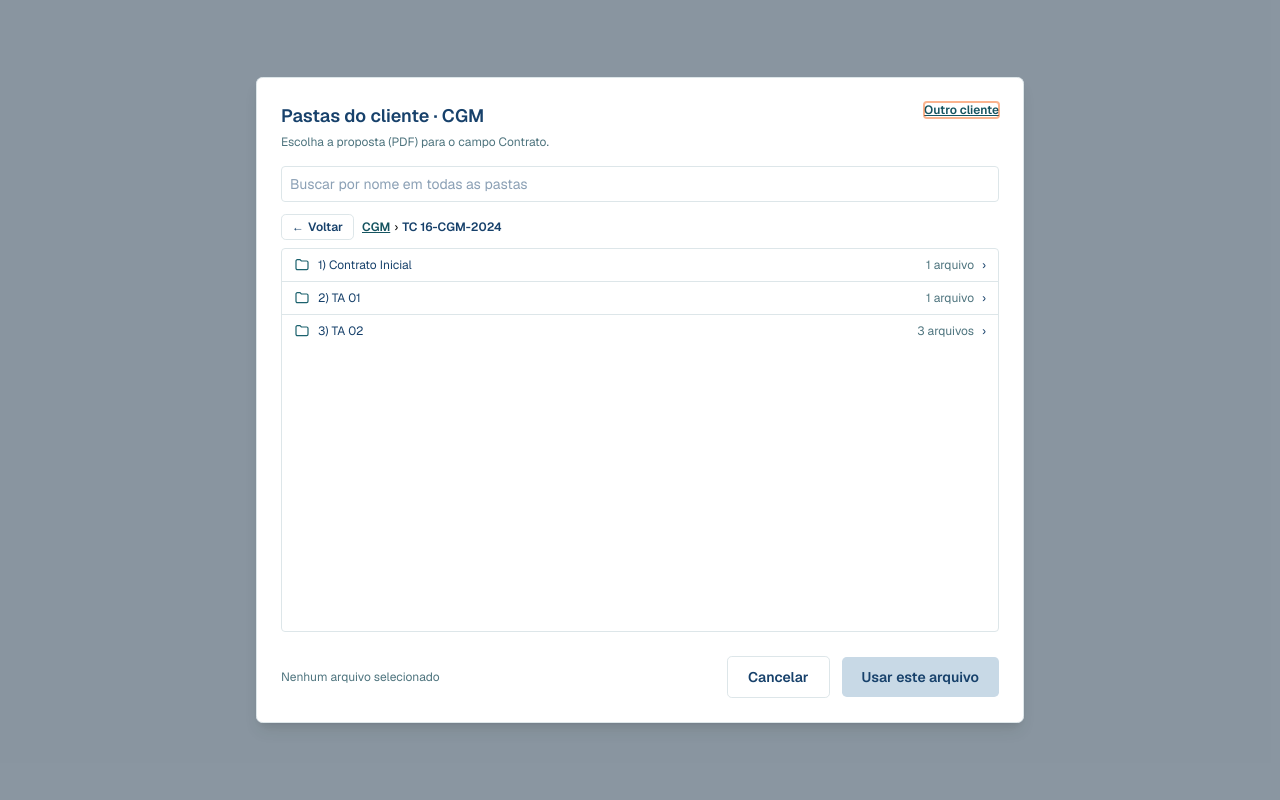
Test: arquivo que não é PDF aparece mas não pode ser escolhido
Click the button "3) TA 02 3 arquivos ›": (341, 331) x1=282 y1=315 x2=998 y2=347
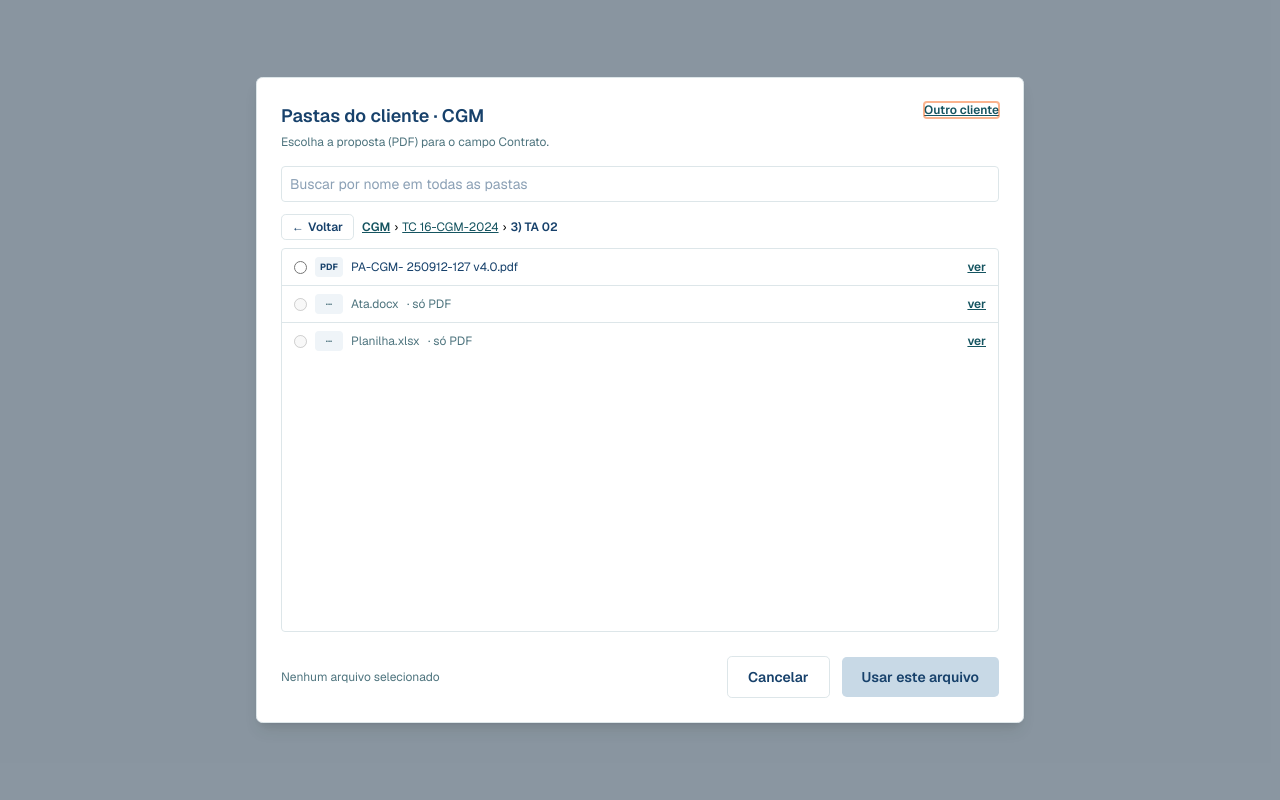
Expected: the radio button labelled "··· Planilha.xlsx · só PDF" is disabled, x1=294 y1=334 x2=307 y2=348
